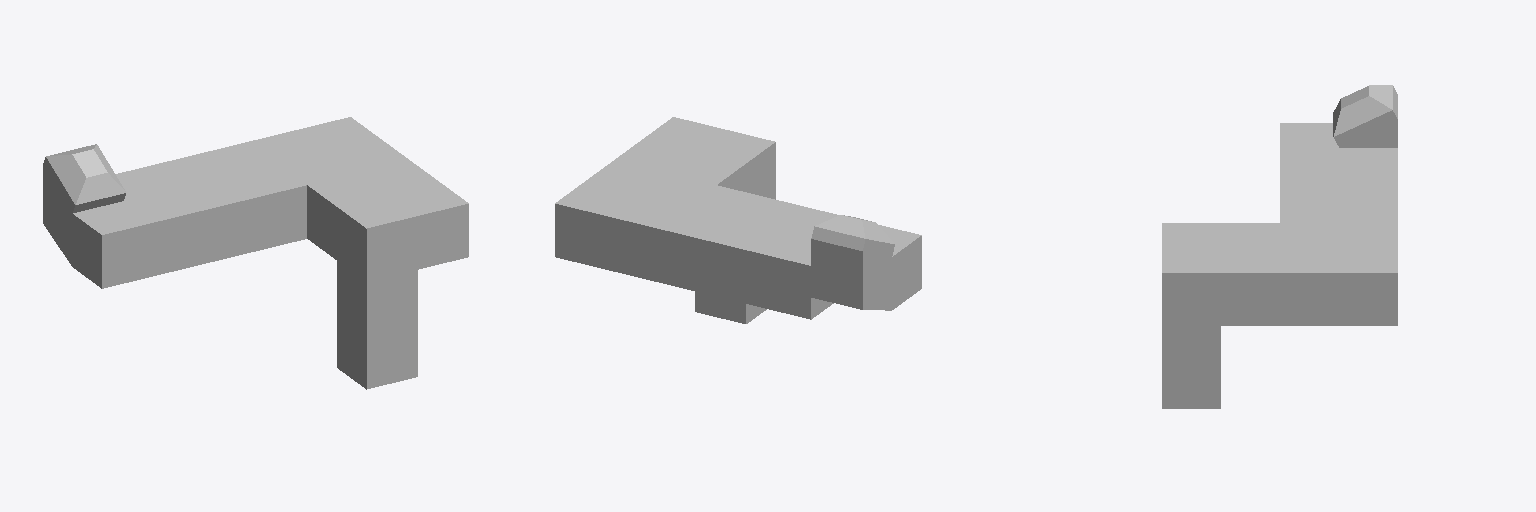
Rendered from level_1_test.obj.
The picture shows the model from 3 angles: view 1: azimuth 30°, elevation 25°; view 2: azimuth 150°, elevation 25°; view 3: azimuth 270°, elevation 25°; orthographic projection.
Parts seen in each view (by area): view 1: Cube.001, Cube.007, Cube.014, Cube.008, Cube.009, Cube.002, Cube.003, Cube.015, Cube.004, Cube.006, Cube.011, Cube.005 (+6 smaller); view 2: Cube.014, Cube.011, Cube.018, Cube.010, Cube.012, Cube.013, Cube.007, Cube.001, Cube.006, Cube.005, Cube.017, Cube.015 (+4 smaller); view 3: Cube.017, Cube.016, Cube.015, Cube.018, Cube.014, Cube.009, Cube.008, Cube.002, Cube.003, Cube.004, Cube.005, Cube.006 (+6 smaller).
Part boxes in pixels (x1,y1,x2,y2): Cube.001: (72,201,152,288); Cube.007: (337,195,417,281); Cube.014: (43,144,125,265); Cube.008: (337,261,417,335); Cube.009: (337,315,417,389); Cube.002: (124,189,204,275); Cube.003: (175,176,255,263); Cube.015: (388,182,468,269); Cube.004: (227,164,306,250); Cube.006: (307,173,387,259); Cube.011: (197,142,277,175); Cube.005: (278,151,357,184); Cube.014: (811,215,894,310); Cube.011: (657,207,737,294); Cube.018: (555,182,635,269); Cube.010: (606,195,685,281); Cube.012: (709,219,788,306); Cube.013: (760,232,833,319); Cube.007: (696,129,775,198); Cube.001: (879,225,921,309); Cube.006: (666,151,745,191); Cube.005: (636,173,715,206); Cube.017: (585,160,664,193); Cube.015: (644,117,723,150); Cube.017: (1280,248,1338,325); Cube.016: (1221,248,1279,325); Cube.015: (1162,248,1220,325); Cube.018: (1339,248,1397,325); Cube.014: (1333,85,1397,147); Cube.009: (1162,355,1220,408); Cube.008: (1162,326,1220,354); Cube.002: (1280,148,1338,172); Cube.003: (1280,173,1338,197); Cube.004: (1280,198,1338,222); Cube.005: (1280,223,1338,247); Cube.006: (1221,223,1279,247).
Bounding box in the file's own units: 12 × 7.66 × 8.